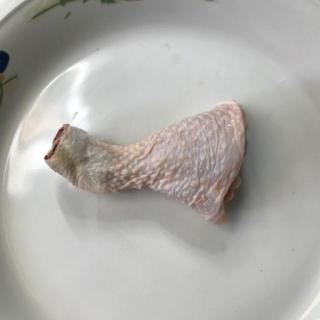Ayam: (44, 100, 250, 228)
